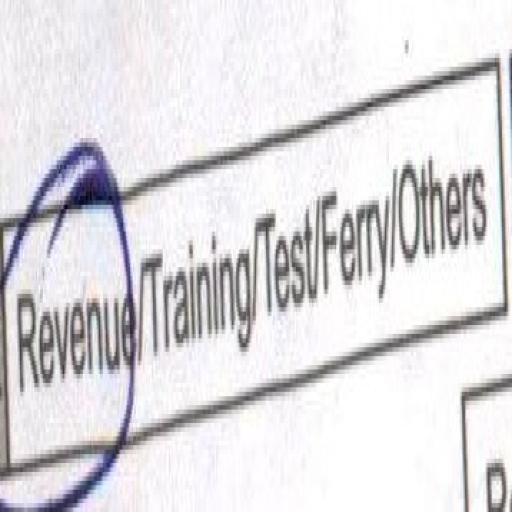check: (0, 93, 137, 507)
